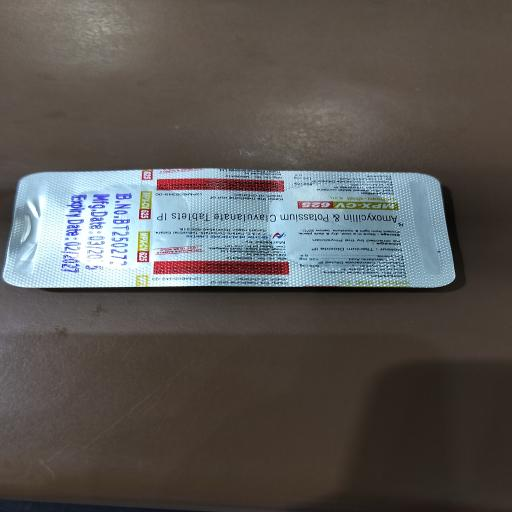amoxycillin: (341, 210, 402, 224), (299, 202, 397, 210)
medicine: (20, 174, 439, 285)
